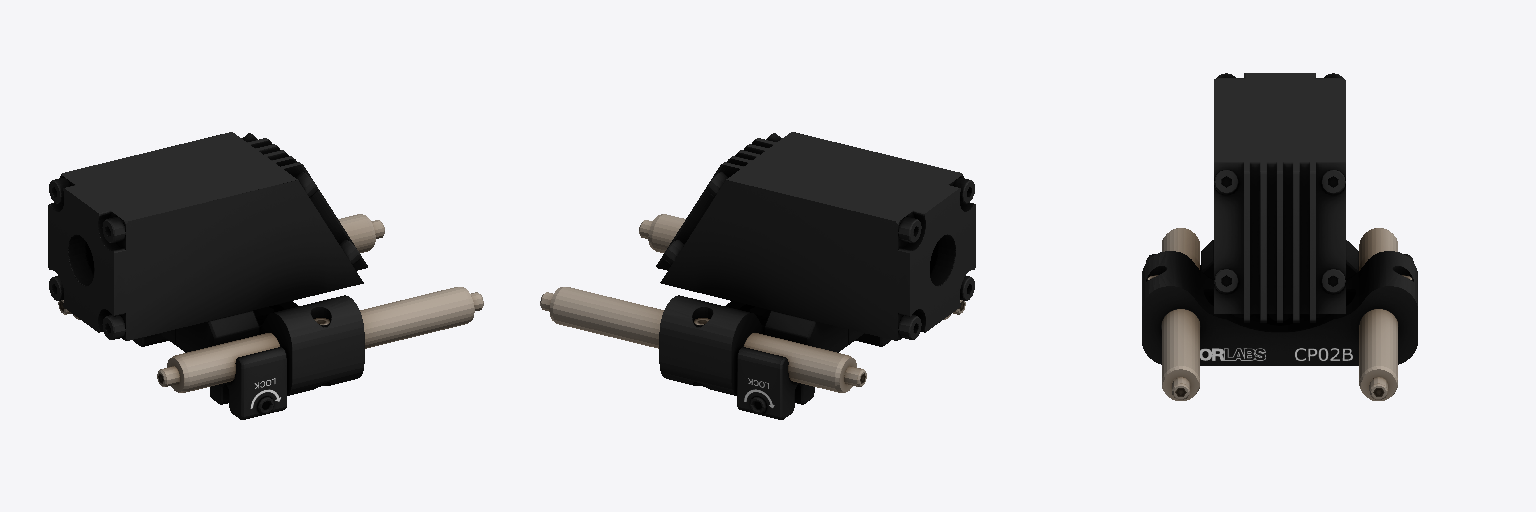
3 views of the same model, side by side, from view 1: azimuth 30°, elevation 25°; view 2: azimuth 150°, elevation 25°; view 3: azimuth 270°, elevation 25° (orthographic).
Visible parts, largest first — view 1: polySurface1070; view 2: polySurface1070; view 3: polySurface1070.
Boxes of the visible parts, x1=… form: polySurface1070: x1=48, y1=132, x2=483, y2=419; polySurface1070: x1=540, y1=132, x2=975, y2=419; polySurface1070: x1=1142, y1=73, x2=1417, y2=400.
Bounding box in the file's own units: 61.17 × 32.79 × 41.91.
1 materials, 1 textured.